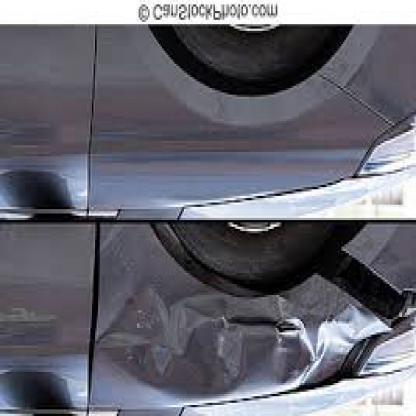dent: (95, 287, 341, 400), (348, 230, 414, 387)
